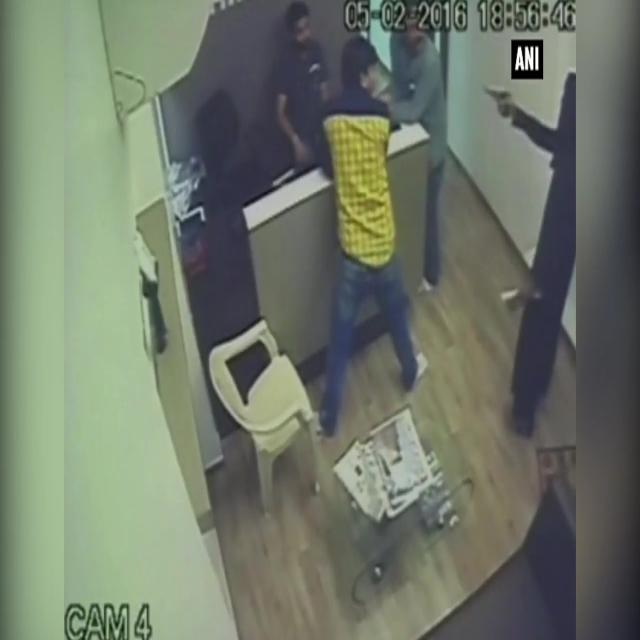Weapon: (485, 66, 514, 142)
